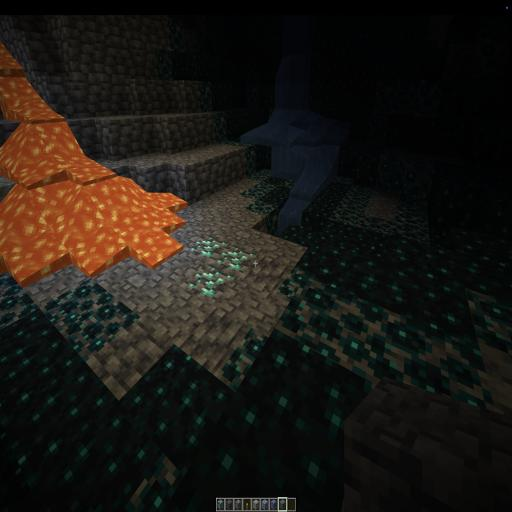diamond ore: (186, 235, 256, 300)
